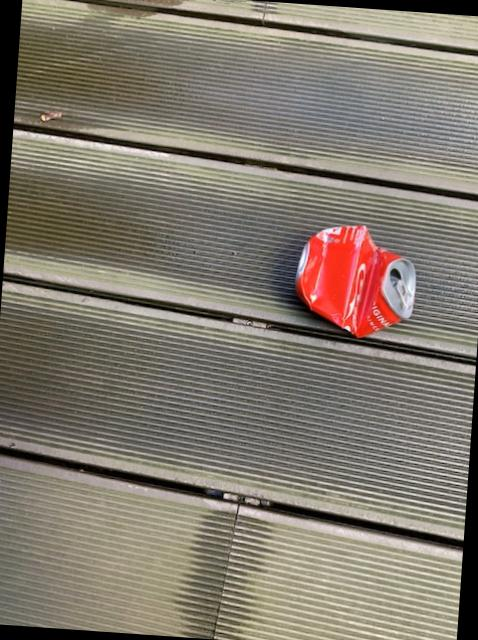metal: (295, 224, 414, 335)
